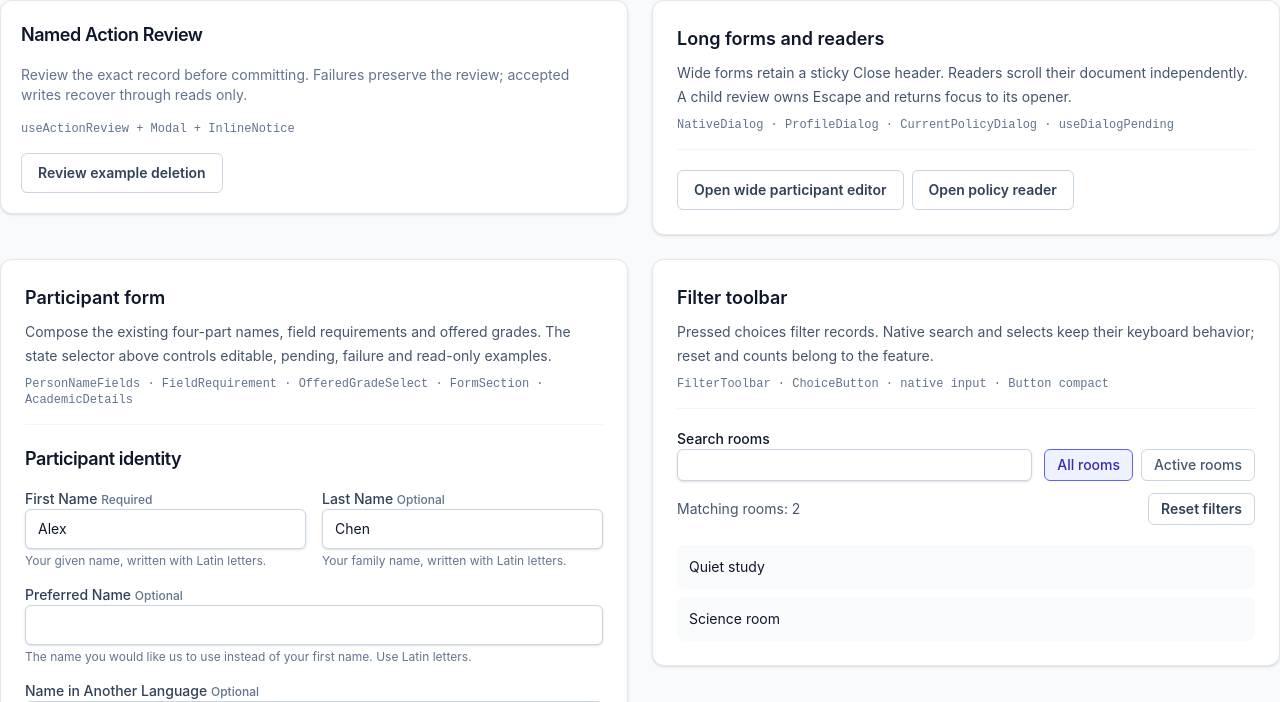
Test: shows named review and read-only recovery in the en gallery
This screenshot has width=1280, height=702.
Step 1. Click the button "Review example deletion" → (122, 173), box [21,153,223,193]
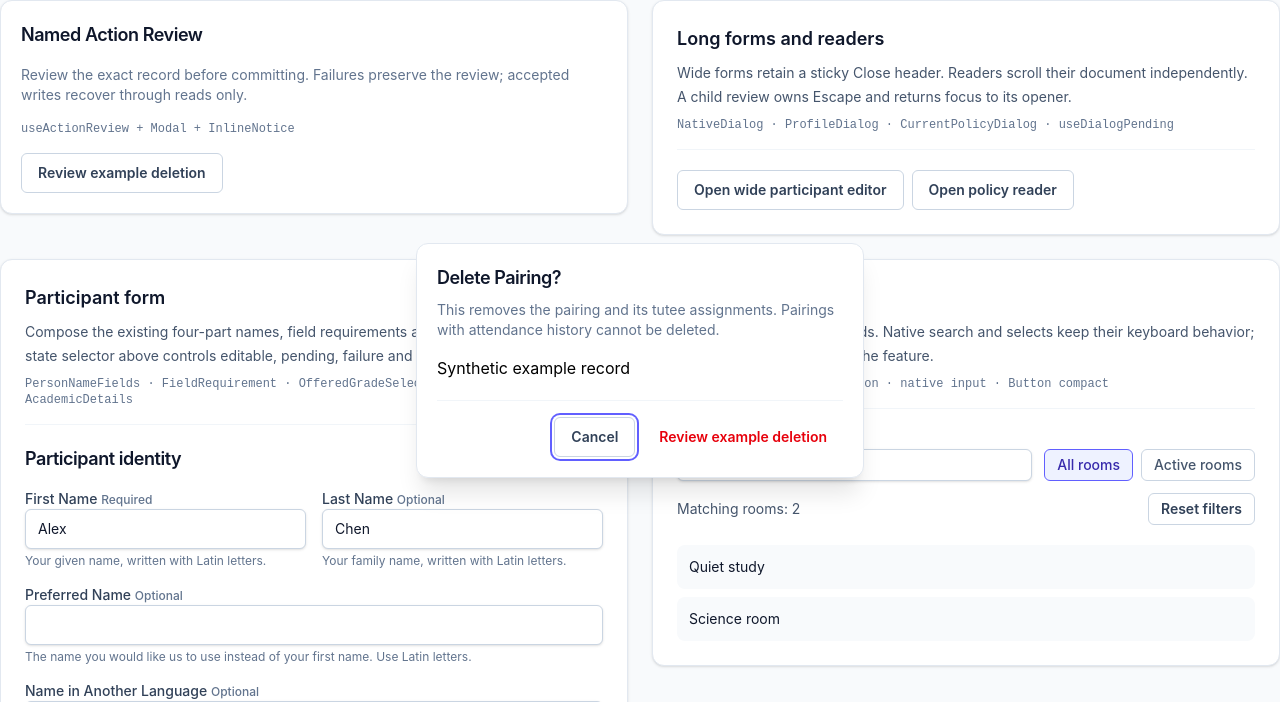
Check: the dialog shows "Synthetic example record", box [437,358,630,378]
Step 2. Click the button "Review example deletion" below "Synthetic example record" → (743, 436), box [643,416,843,456]
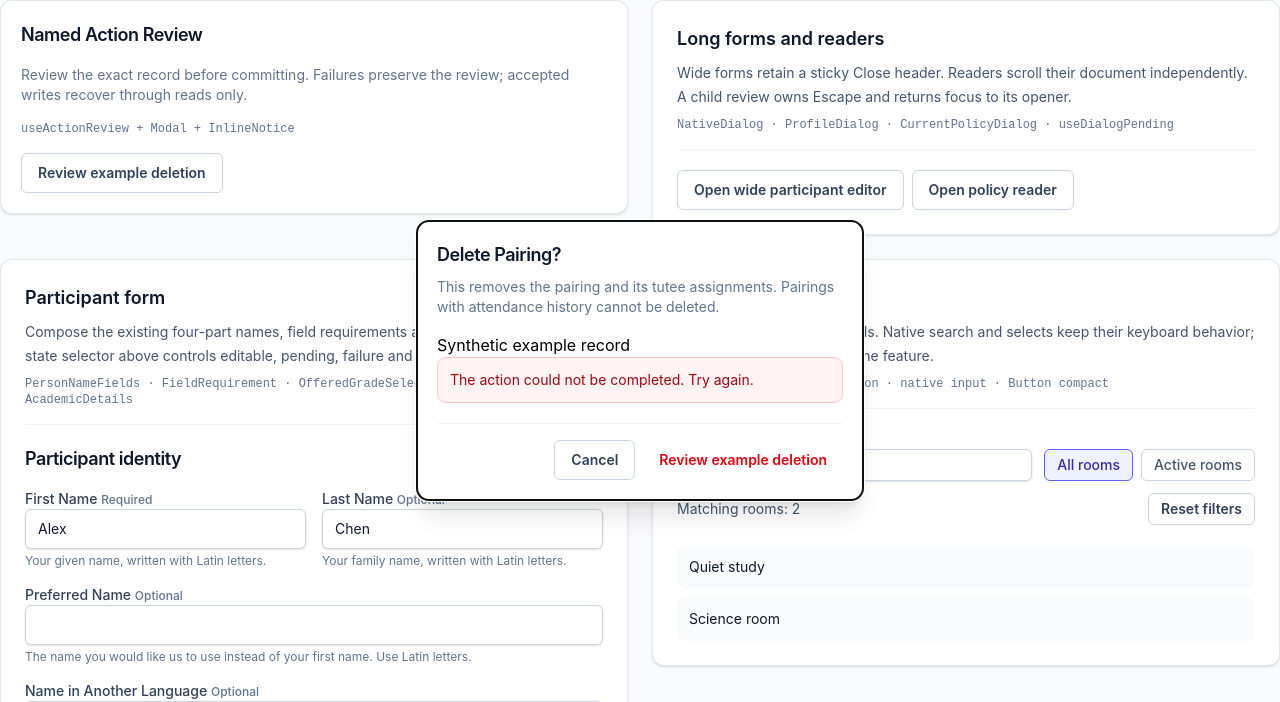
Check: the message reads "The action could not be completed. Try again.", box [450,370,754,388]
Step 3. Click the button "Review example deletion" below "Synthetic example record" → (743, 460), box [643,440,843,480]
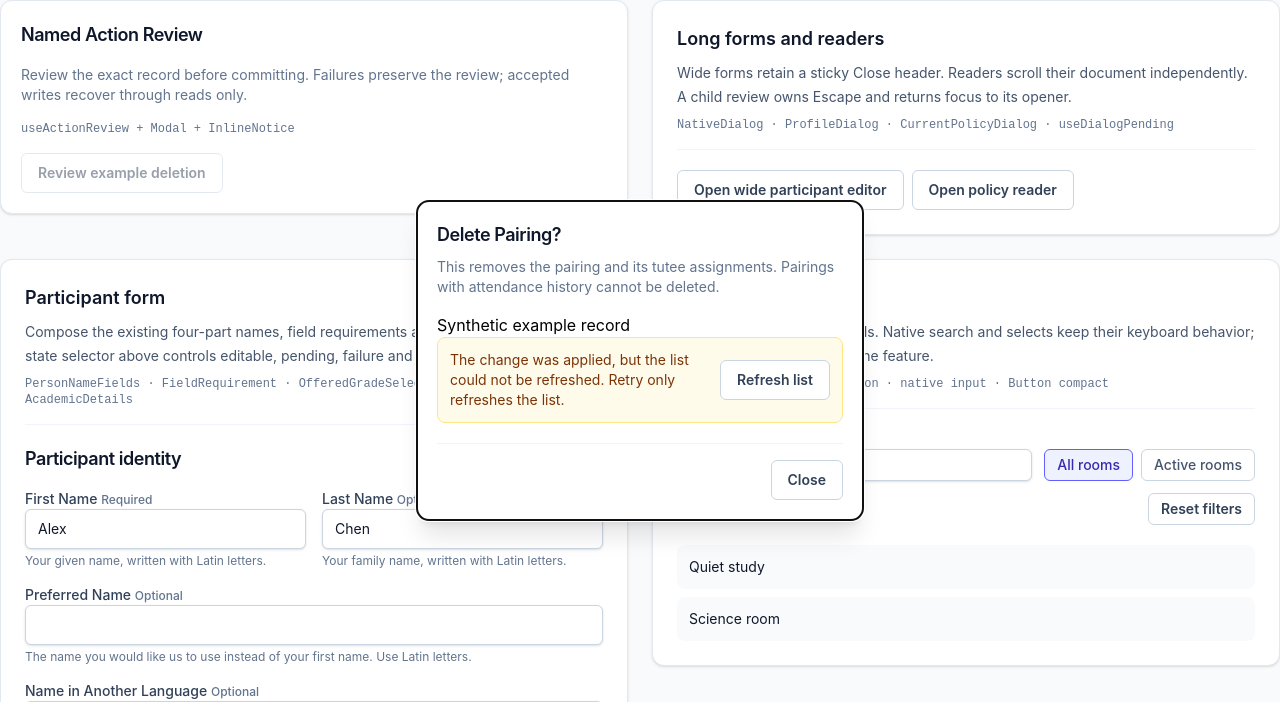
Check: the dialog shows "The change was applied, but the list could not be refreshed. Retry only refreshes the list.", box [450,350,689,408]
Step 4. Click the button "Refresh list" → (775, 380), box [720,360,830,400]
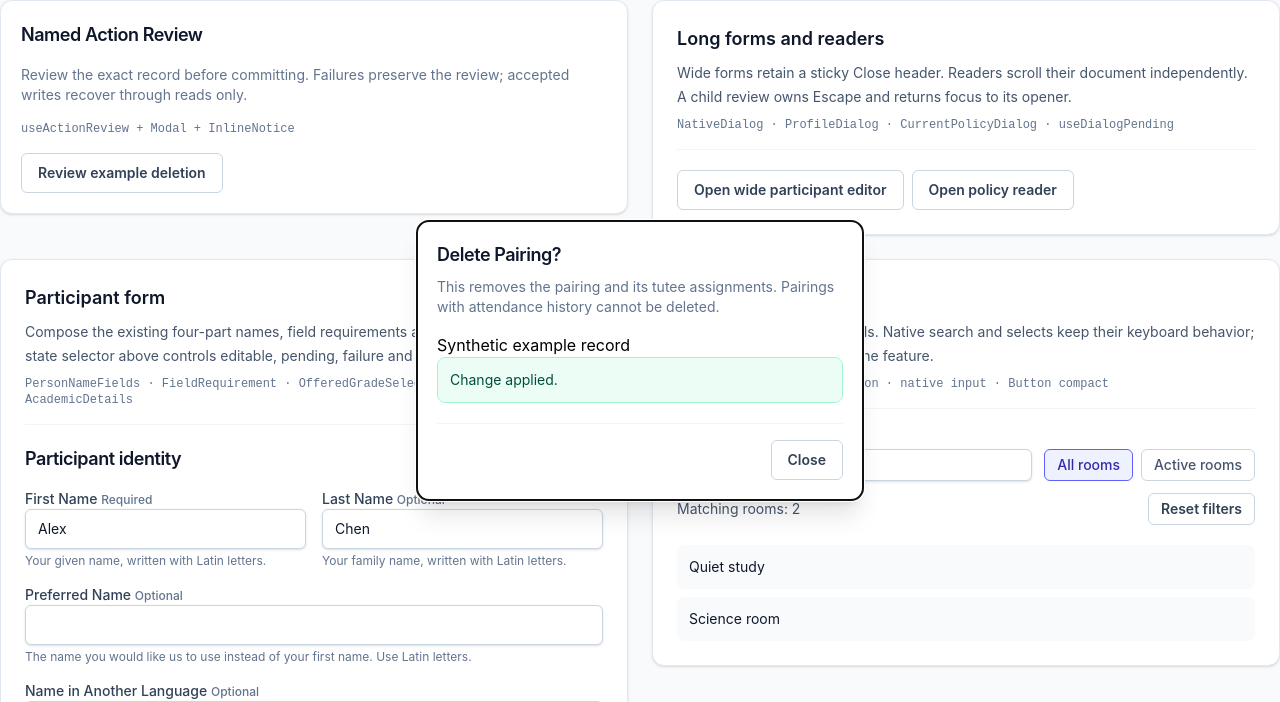
Check: the dialog shows "Change applied.", box [450,370,558,388]
